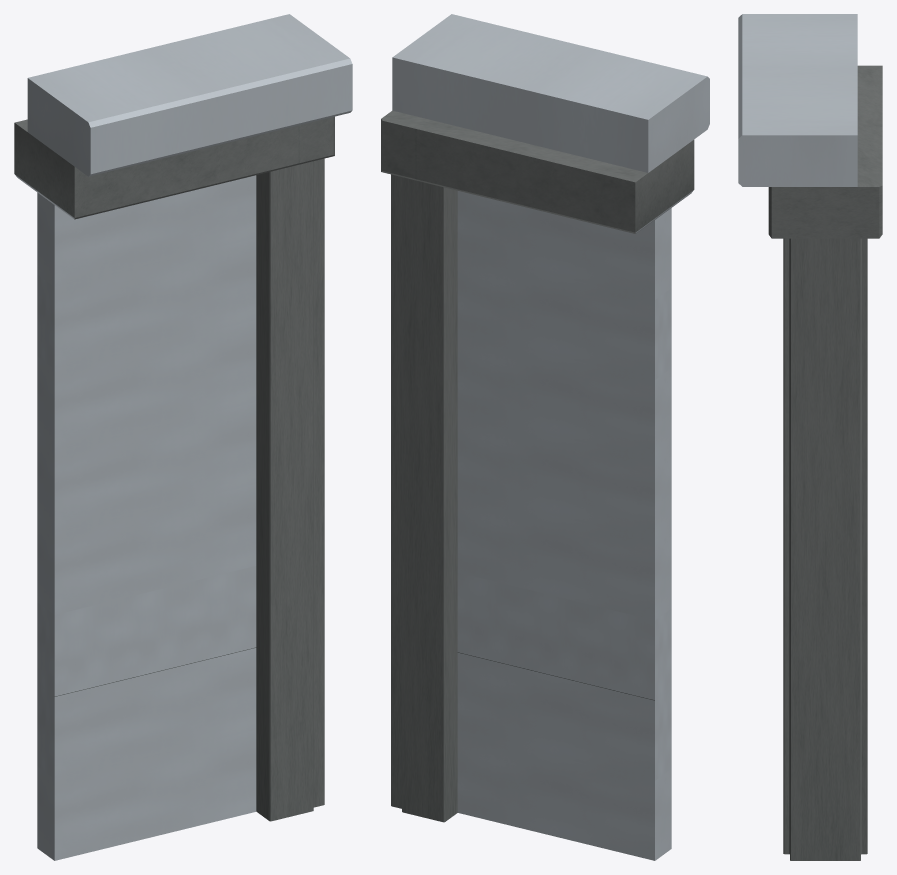
Rendered from ShuttersSegments_3.fbx.
The picture shows the model from 3 angles, left to right: view 1: azimuth 30°, elevation 25°; view 2: azimuth 150°, elevation 25°; view 3: azimuth 270°, elevation 25°; orthographic projection. The views are drawn at different scales.
Parts seen in each view (by area): view 1: ShuttersSegments_3; view 2: ShuttersSegments_3; view 3: ShuttersSegments_3.
Boxes of the visible parts, x1,y1,x2,y2 form: ShuttersSegments_3: (14,14,352,860); ShuttersSegments_3: (381,14,709,860); ShuttersSegments_3: (738,14,882,860).
Bounding box in the file's own units: 1.01 × 2.81 × 0.5058.
